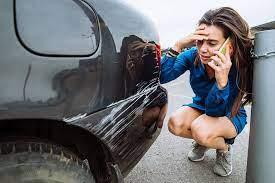quaterpanel-dent: (0, 0, 102, 164)
rear-bumper-dent: (41, 82, 190, 182)
